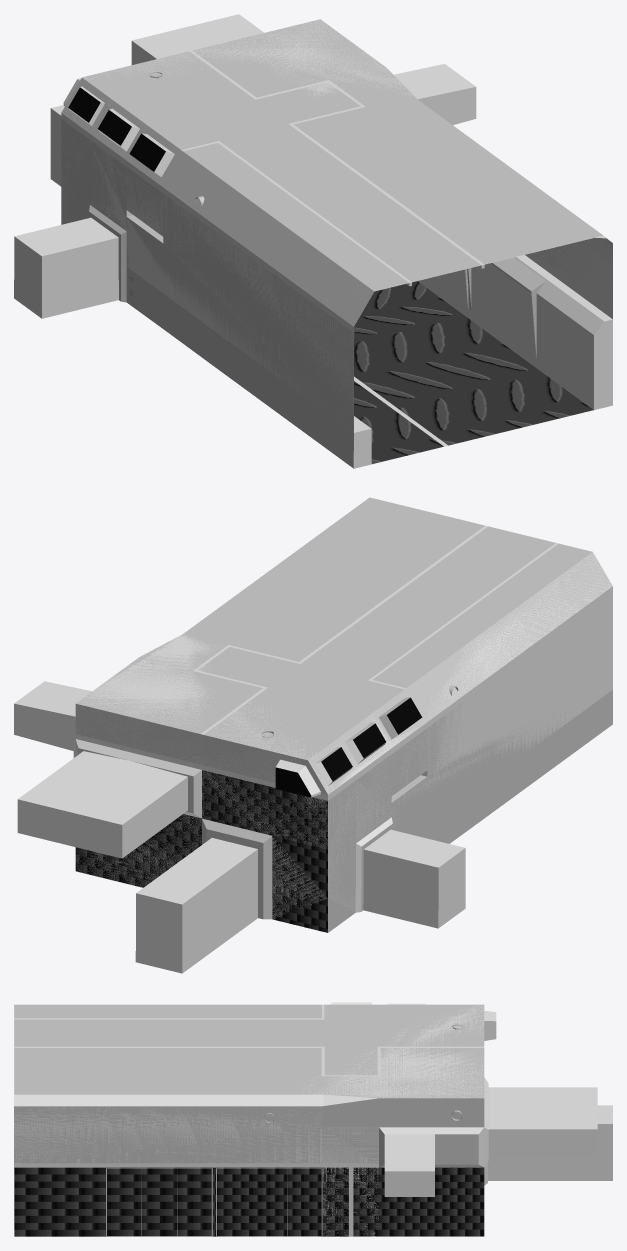
Rendered from Room_mesh.fbx.
The picture shows the model from 3 angles, top to bottom: view 1: azimuth 30°, elevation 25°; view 2: azimuth 150°, elevation 25°; view 3: azimuth 270°, elevation 25°; orthographic projection. The views are drawn at different scales.
Visible parts, largest first — view 1: ROOM, Cube, FAN, Server; view 2: ROOM, Cube; view 3: ROOM, Cube, Server.
Part boxes in pixels (box(x1,y1,x2,y2)): ROOM: box(61, 19, 612, 468); Cube: box(14, 14, 612, 468); FAN: box(130, 277, 228, 374); Server: box(464, 257, 545, 358); ROOM: box(73, 497, 612, 932); Cube: box(14, 497, 612, 973); ROOM: box(14, 1002, 496, 1236); Cube: box(14, 1004, 612, 1236); Server: box(106, 1168, 322, 1236).
Bounding box in the file's own units: 6663 × 2550 × 9927.
